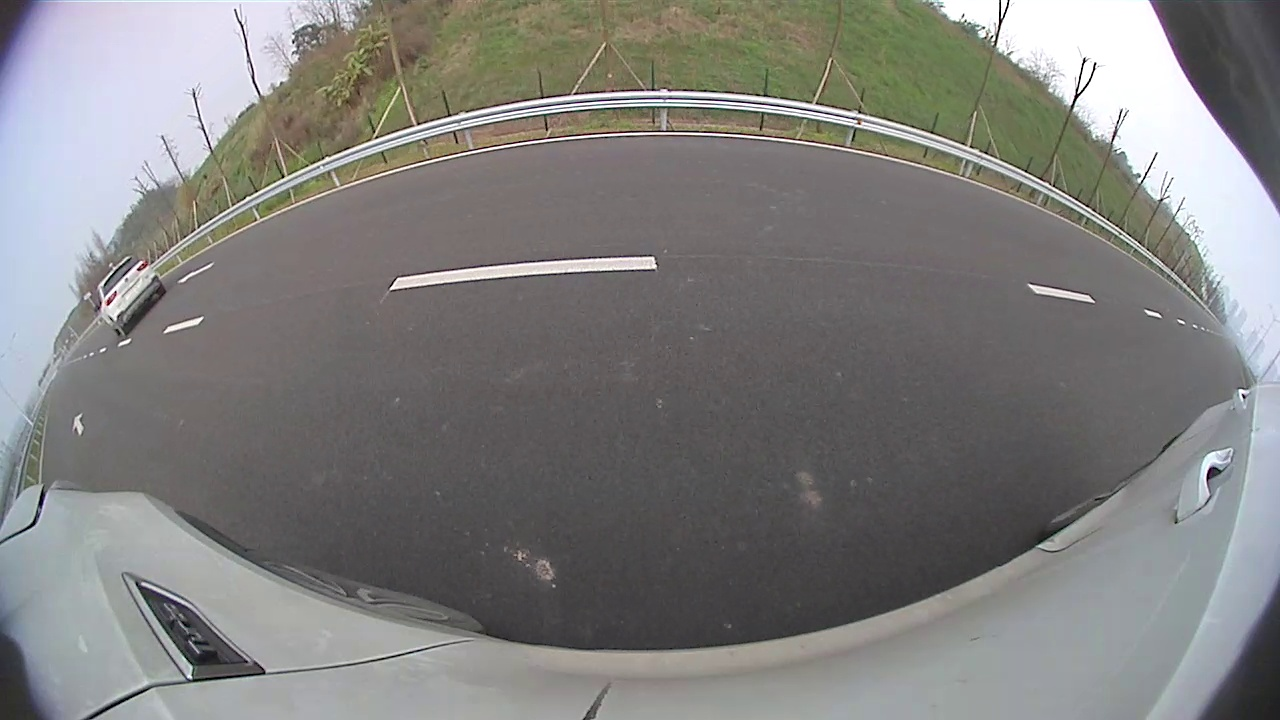car: (1166, 352, 1267, 490)
